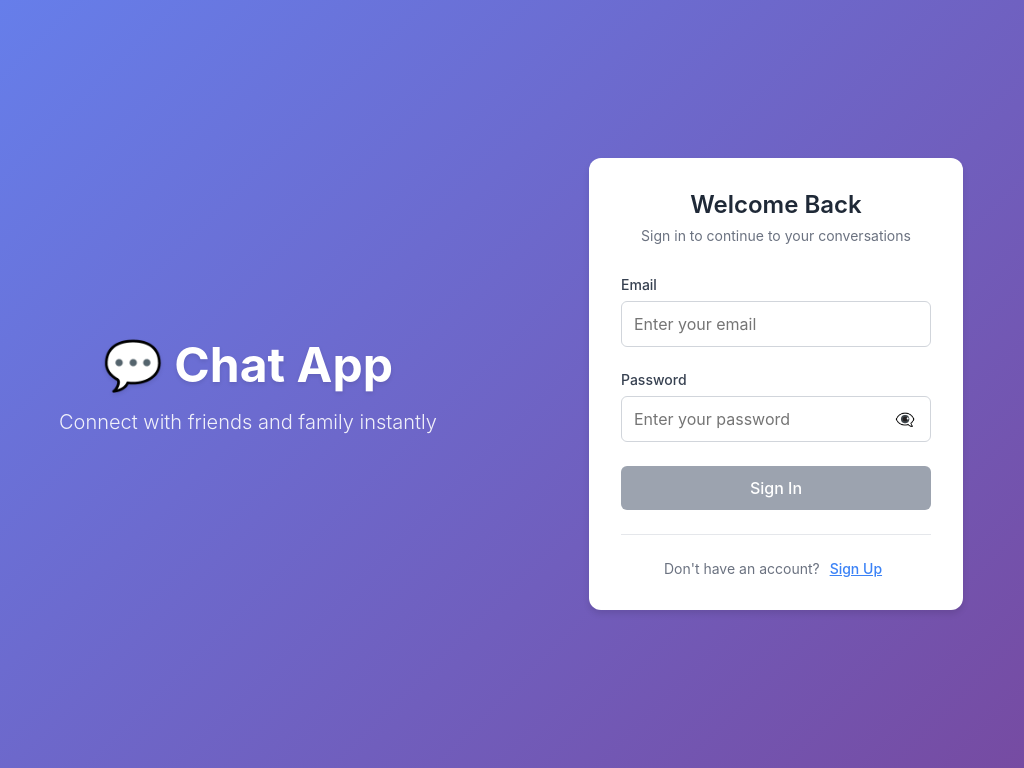
AuthPage › switches to register form when Sign Up is clicked
This screenshot has width=1024, height=768.
Step 1. Click the button "Sign Up" → (856, 568), box top-left (824, 559), bottom-right (888, 578)
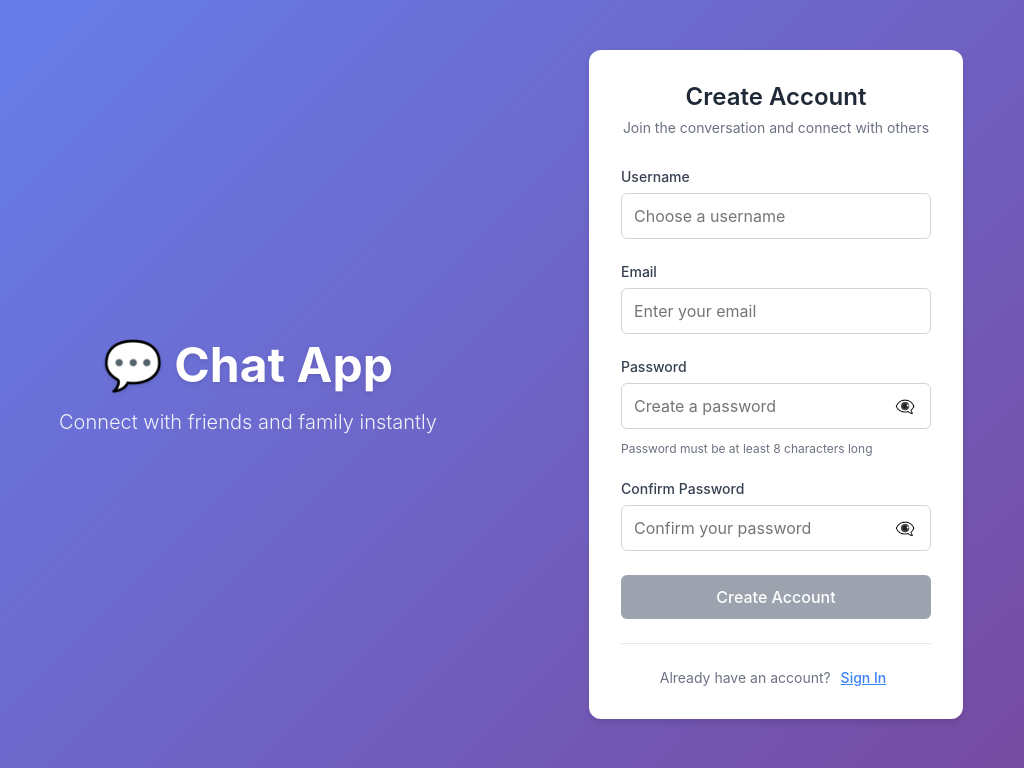
Expected: the heading "Create Account" is shown, top-left (686, 82), bottom-right (866, 110)
Expected: the text "Join the conversation and connect with others" is shown, top-left (621, 118), bottom-right (931, 136)
Expected: the field labelled "Username" is shown, top-left (621, 192), bottom-right (931, 238)
